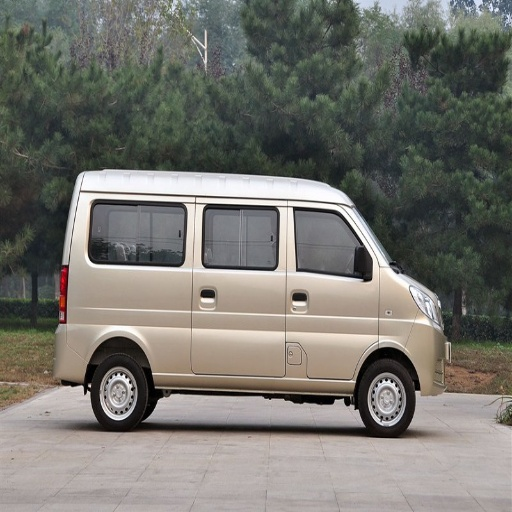back_right_door: (77, 192, 289, 374)
front_right_door: (284, 203, 377, 379)
trunk: (57, 280, 187, 383)
